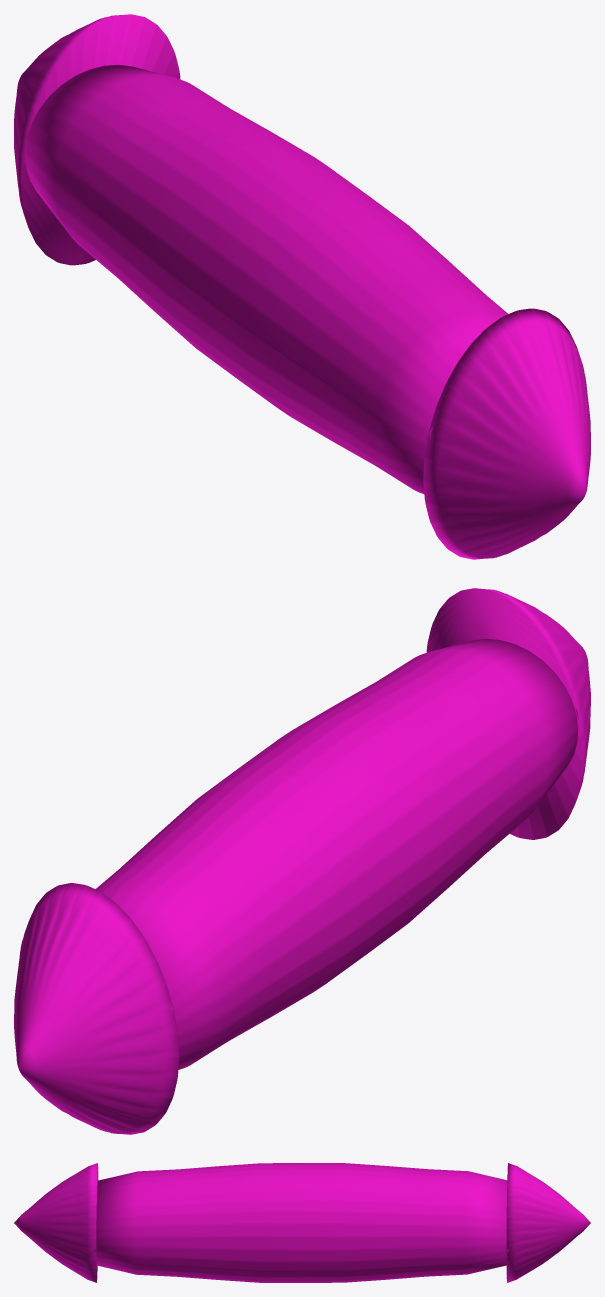
Rendered from double2.fbx.
3 views of the same model, one above another, from view 1: azimuth 30°, elevation 25°; view 2: azimuth 150°, elevation 25°; view 3: azimuth 270°, elevation 25° (orthographic). The views are drawn at different scales.
Parts seen in each view (by area): view 1: Cone.001; view 2: Cone.001; view 3: Cone.001.
Part boxes in pixels (x1=…): Cone.001: x1=14, y1=14, x2=590, y2=559; Cone.001: x1=14, y1=588, x2=590, y2=1134; Cone.001: x1=14, y1=1163, x2=590, y2=1282.
Size of the model in its own units: 268 by 329 by 1403.
